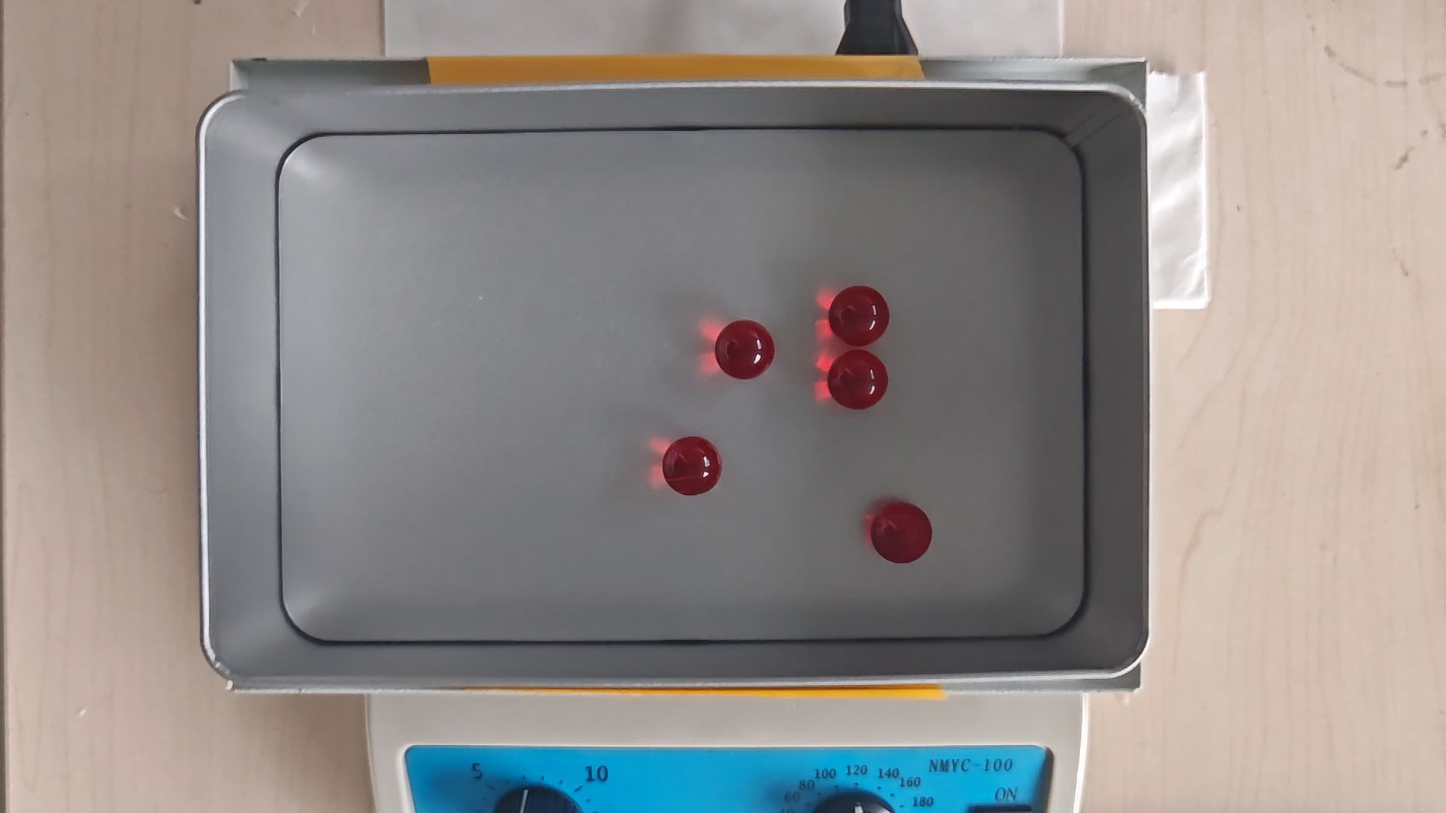ball: (871, 504, 933, 567), (830, 285, 888, 348), (714, 320, 774, 379), (830, 350, 886, 412), (665, 437, 719, 497)
container: (278, 128, 1086, 642)
